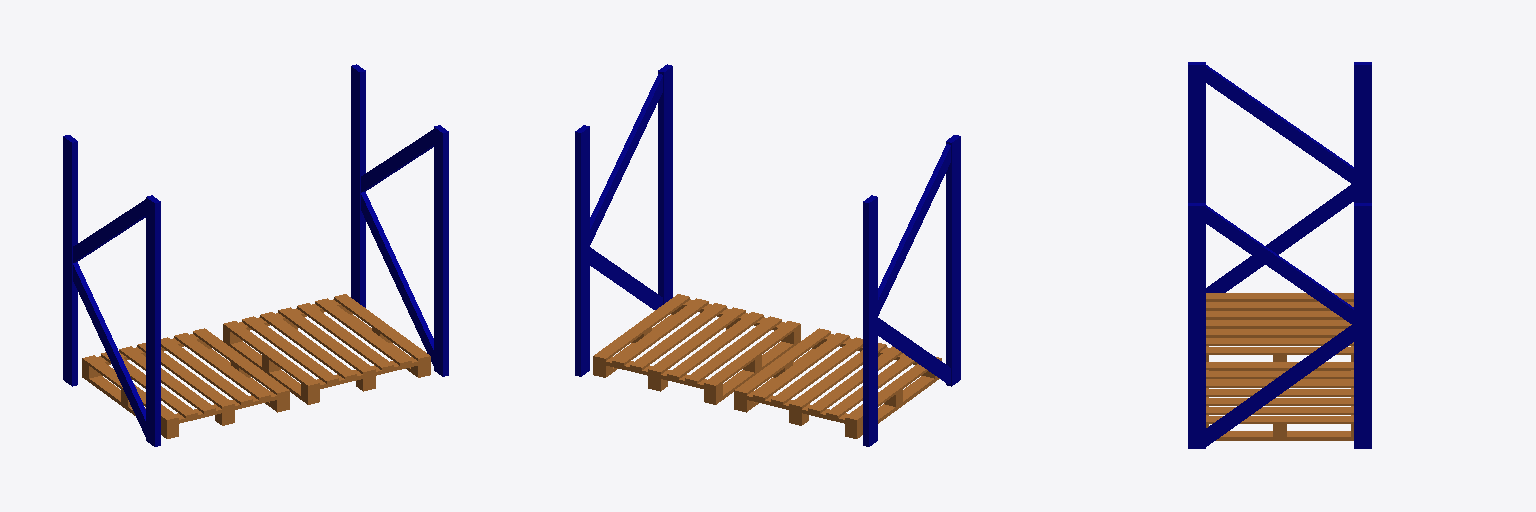
3 views of the same model, side by side, from view 1: azimuth 30°, elevation 25°; view 2: azimuth 150°, elevation 25°; view 3: azimuth 270°, elevation 25° (orthographic).
Visible parts, largest first — view 1: Barras_Laterais_Cube.010; view 2: Barras_Laterais_Cube.010; view 3: Barras_Laterais_Cube.010.
Boxes of the visible parts, x1=… form: Barras_Laterais_Cube.010: x1=63, y1=64, x2=448, y2=446; Barras_Laterais_Cube.010: x1=575, y1=64, x2=960, y2=446; Barras_Laterais_Cube.010: x1=1188, y1=62, x2=1371, y2=448.
Bounding box in the file's own units: 2.4 × 1.9 × 1.3.